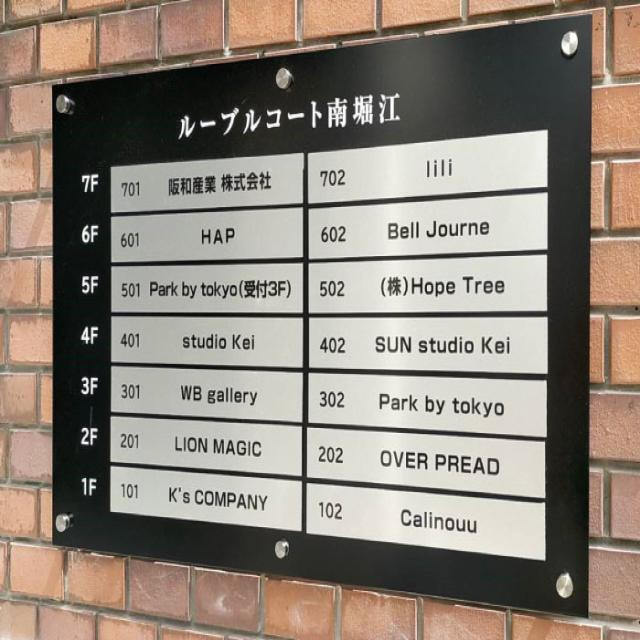building: (169, 85, 405, 149)
facility: (372, 444, 508, 489), (372, 386, 510, 427), (370, 330, 516, 365), (146, 274, 295, 307), (162, 165, 274, 205), (165, 481, 277, 521), (377, 271, 514, 303), (380, 212, 495, 249), (168, 429, 268, 466), (396, 503, 484, 545), (175, 379, 264, 413), (177, 327, 259, 358), (418, 152, 458, 185), (195, 222, 240, 249)
floor: (75, 320, 103, 354), (76, 471, 101, 504), (76, 421, 103, 451), (77, 371, 102, 403), (77, 270, 103, 300), (78, 219, 102, 249), (78, 170, 101, 199)
